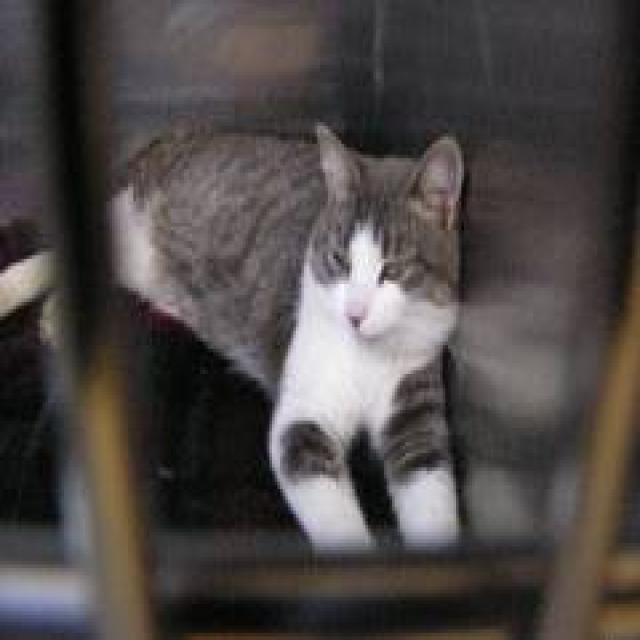cat: (47, 82, 503, 569)
